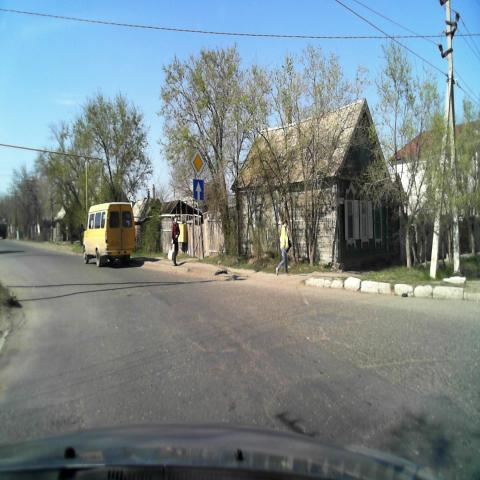2_1: (191, 147, 207, 178)
5_5: (193, 178, 205, 202)
